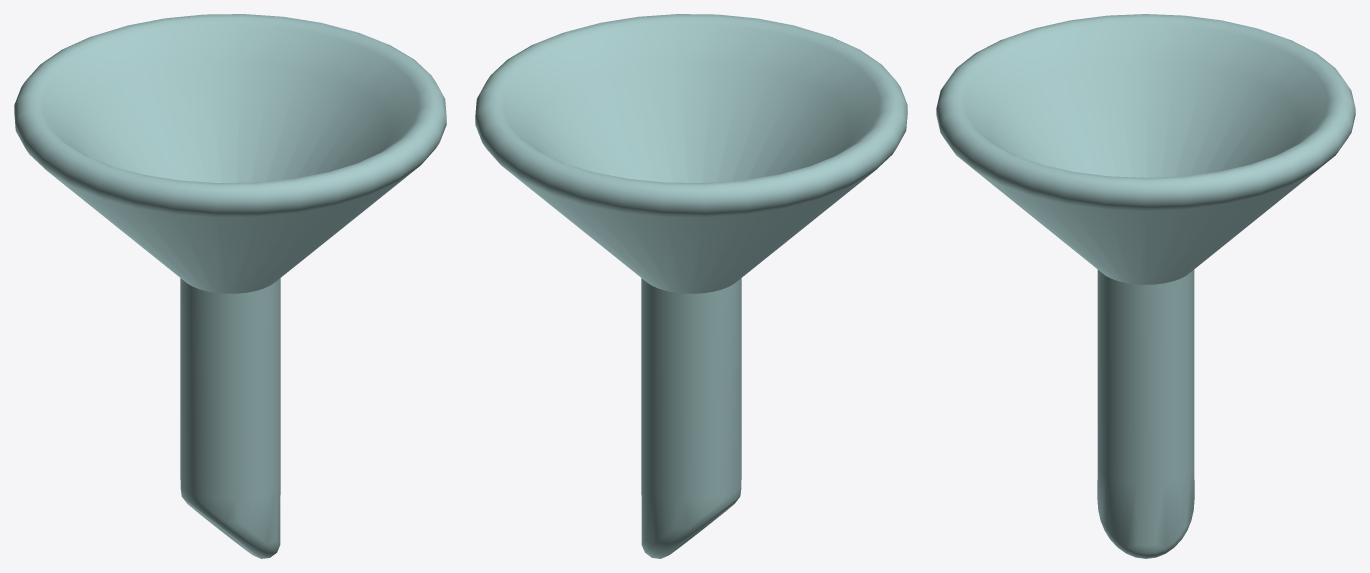
File: LastLuna_Model_Station_Funnel.fbx
3 renders of one model, left to right at view 1: azimuth 30°, elevation 25°; view 2: azimuth 150°, elevation 25°; view 3: azimuth 270°, elevation 25°, orthographic. The views are drawn at different scales.
Parts seen in each view (by area): view 1: Funnel001; view 2: Funnel001; view 3: Funnel001.
Part boxes in pixels (box(x1,y1,x2,y2)): Funnel001: box(14, 14, 446, 558); Funnel001: box(475, 14, 907, 558); Funnel001: box(936, 14, 1355, 558).
Bounding box in the file's own units: 64.83 × 76.09 × 64.83.
